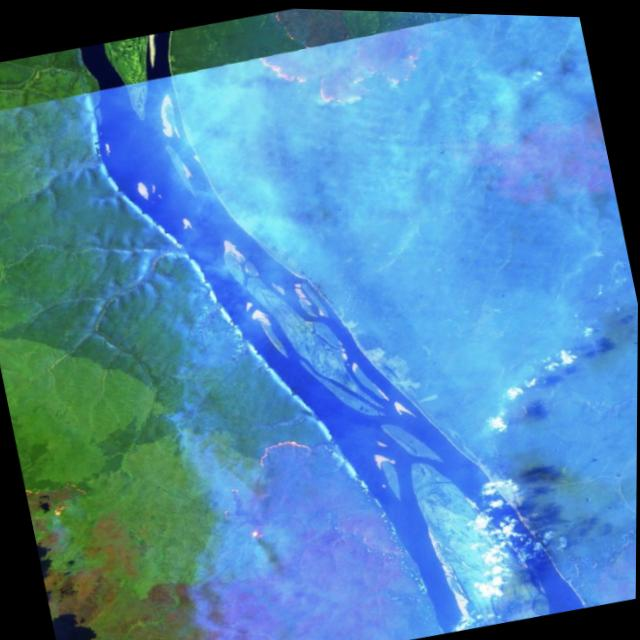fire: (242, 8, 433, 127), (241, 423, 324, 483), (238, 516, 273, 547)
